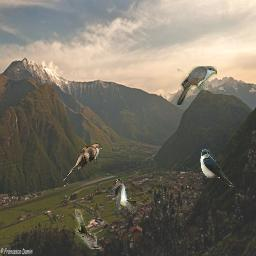Cuckoo: (177, 66, 217, 105), (63, 143, 103, 181), (75, 209, 100, 249)
Swallow: (200, 149, 234, 187), (113, 179, 137, 219)
